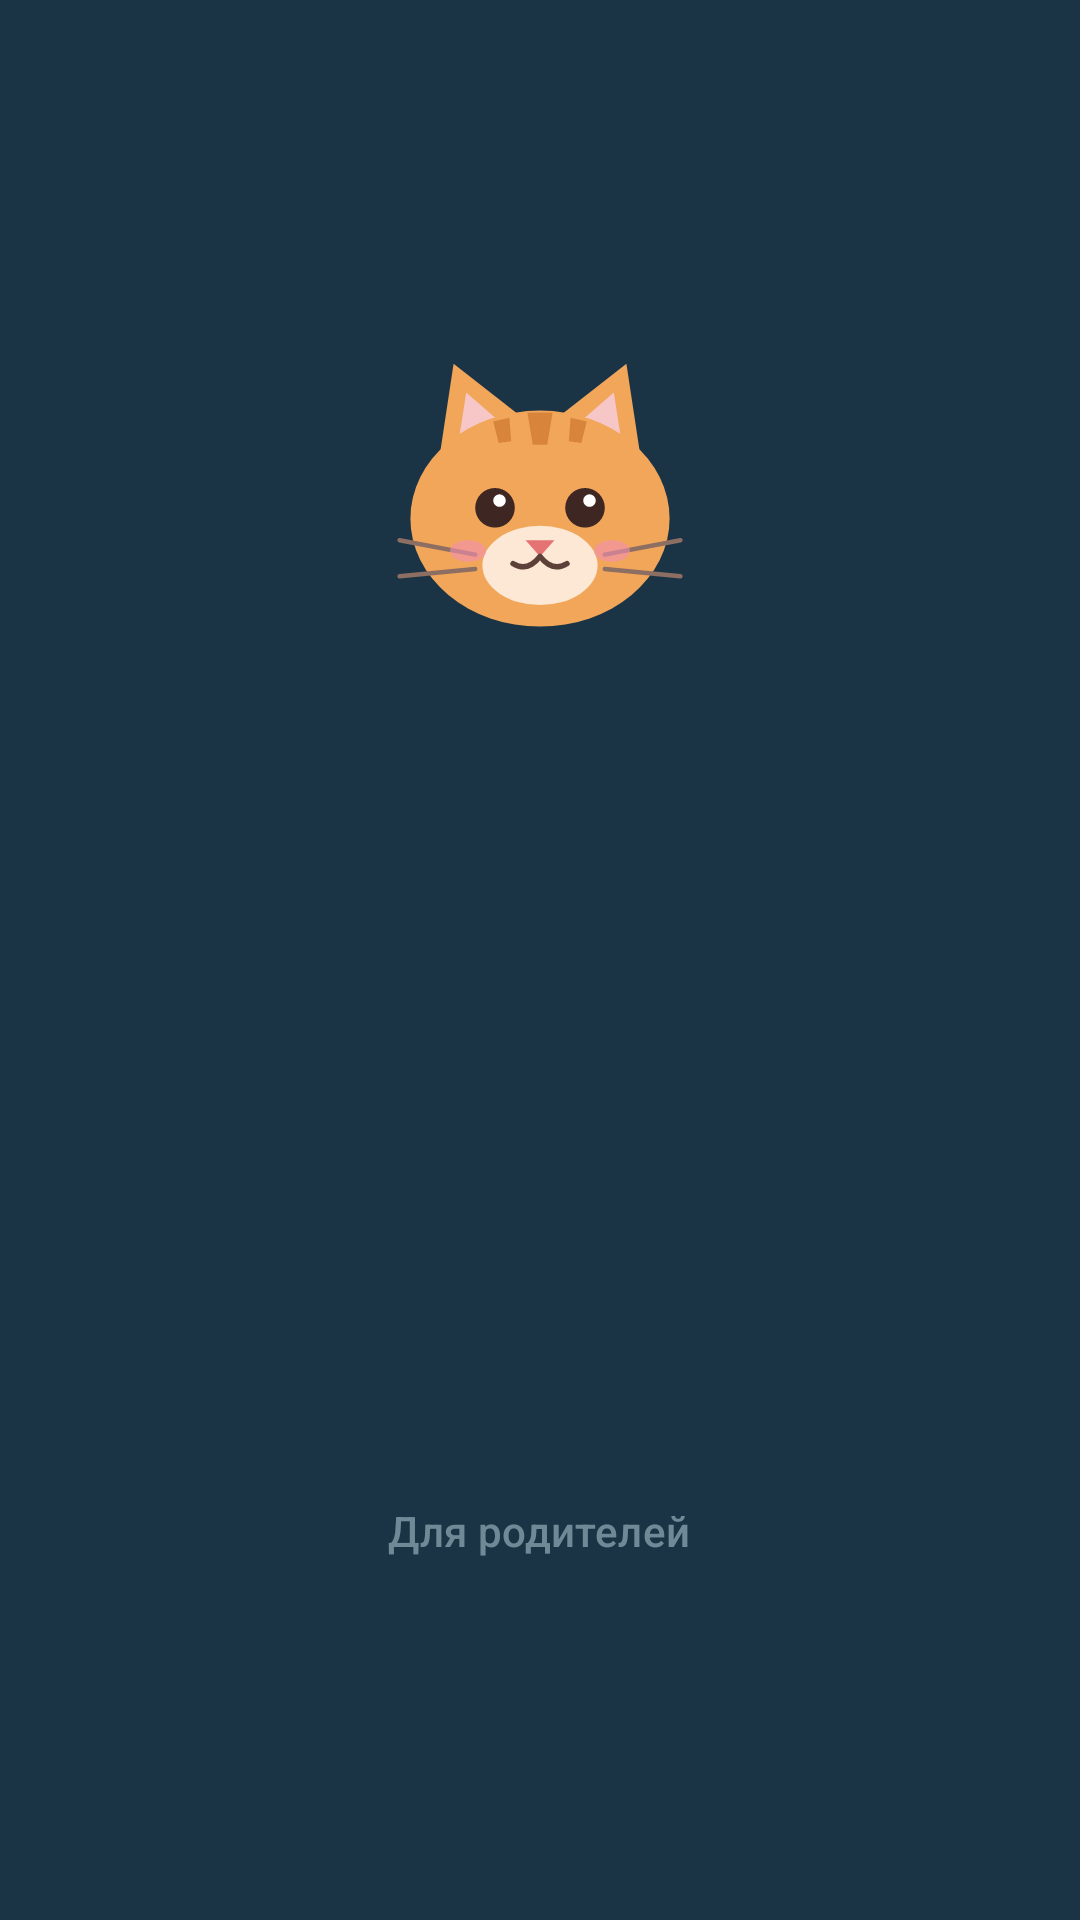

Icon bounding boxes for this 1080px x 1920px phone screenshot, format (x1, y1, x2, y2):
cat neutral: (397, 364, 683, 627)
